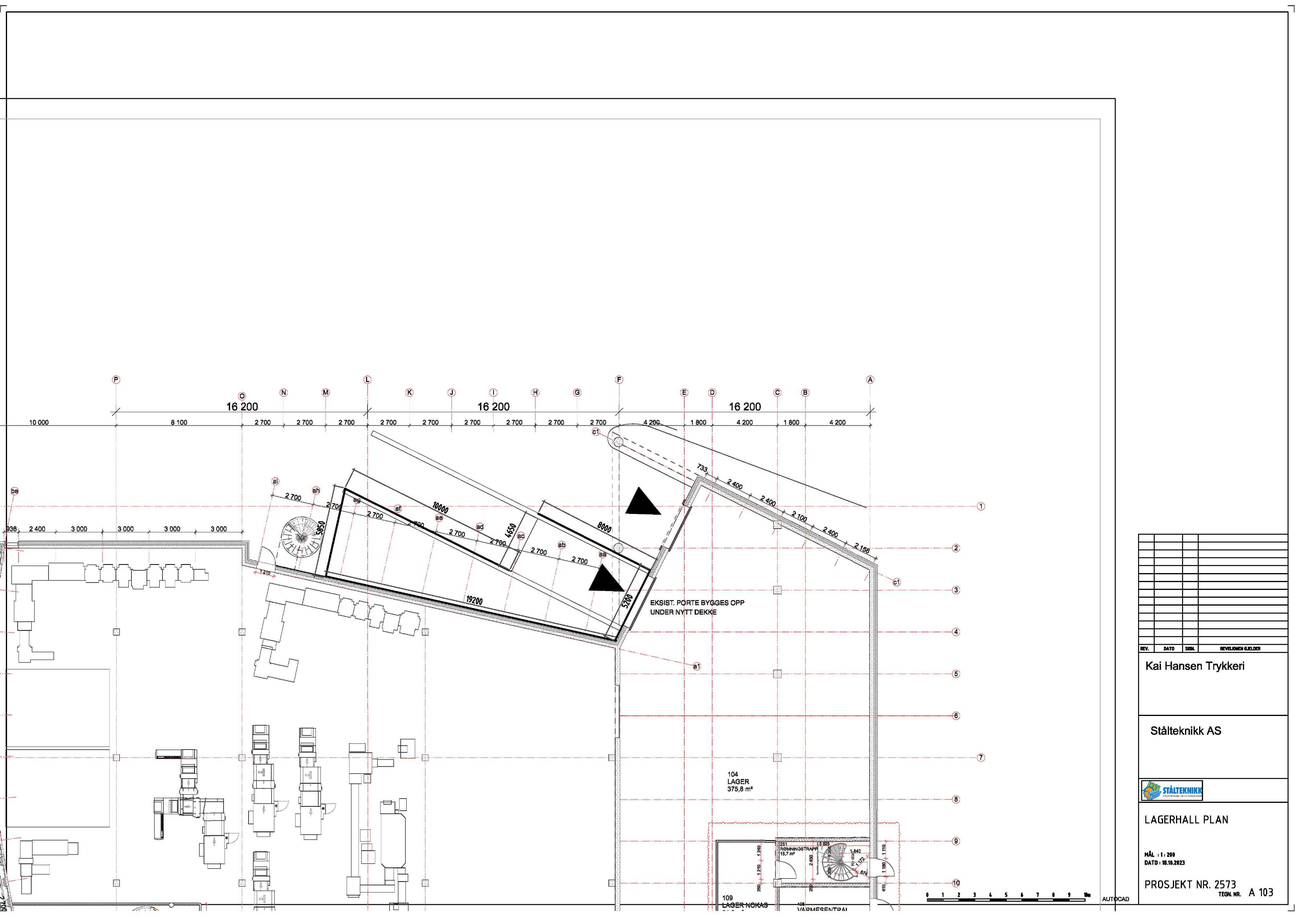plantegning: (9, 425, 896, 902)
